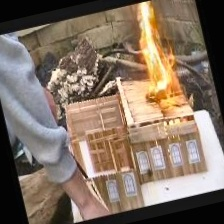fire: (121, 0, 190, 115)
